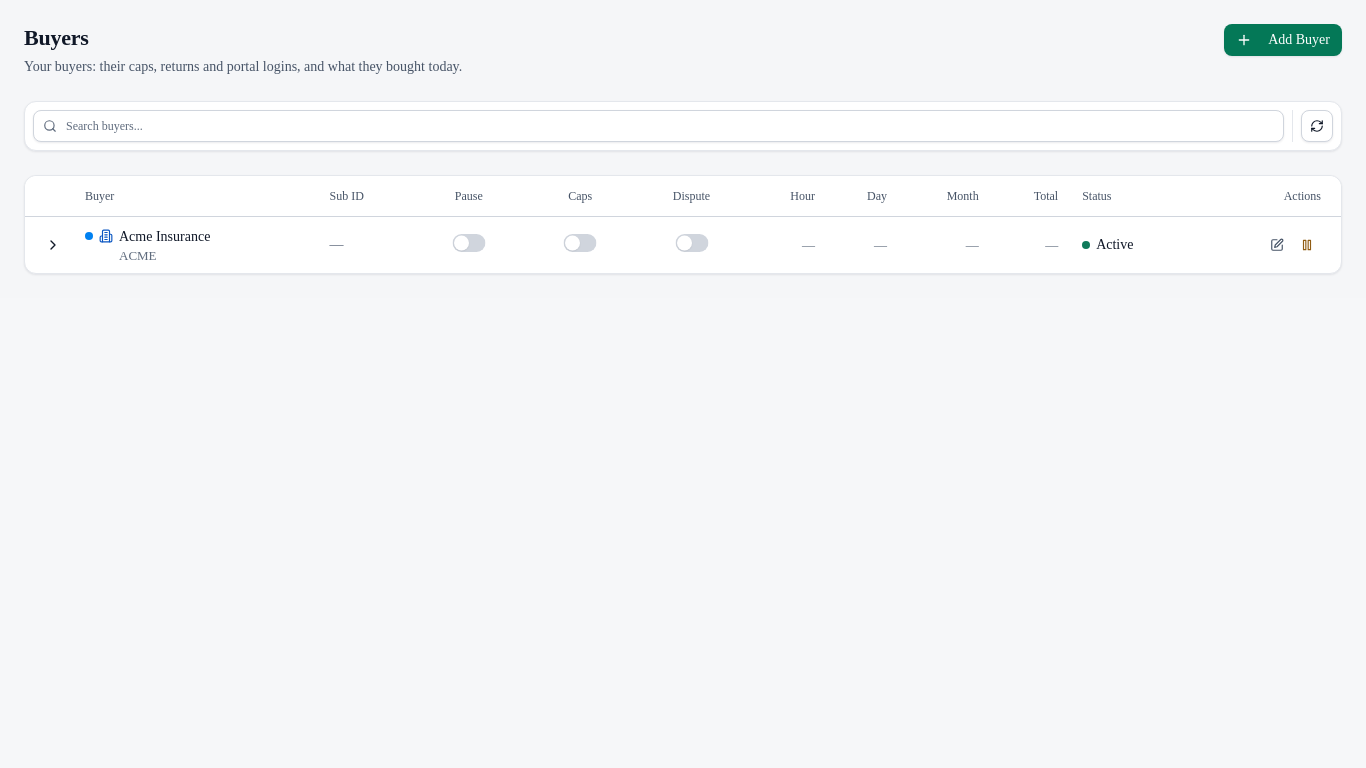
Test case: owner screens: buyers without a publisher, publisher stats › opens Edit on a buyer whose publisher is null
Expected: the text "Acme Insurance" is shown, [119,226,210,247]
Click the button titled "Edit": [1277, 245] box [1263,231,1291,259]
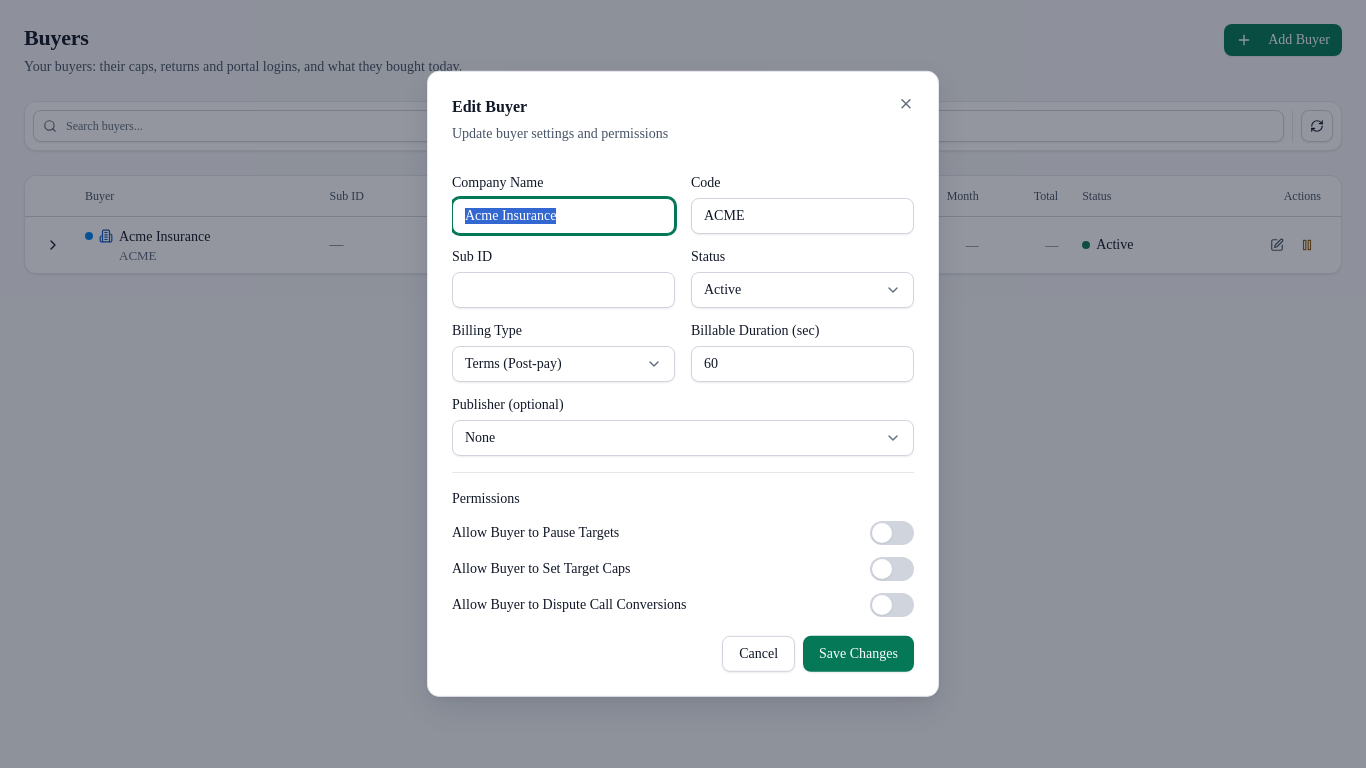
Result: the heading "Edit Buyer" is shown at [452,98,527,115]
Result: the text "Publisher (optional)" is shown at [452,396,564,411]
Result: the field labelled "Company Name" holds "Acme Insurance" at [452,197,675,233]
